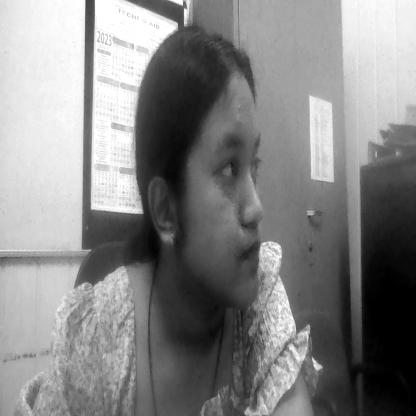Distracted: (184, 73, 278, 317)
